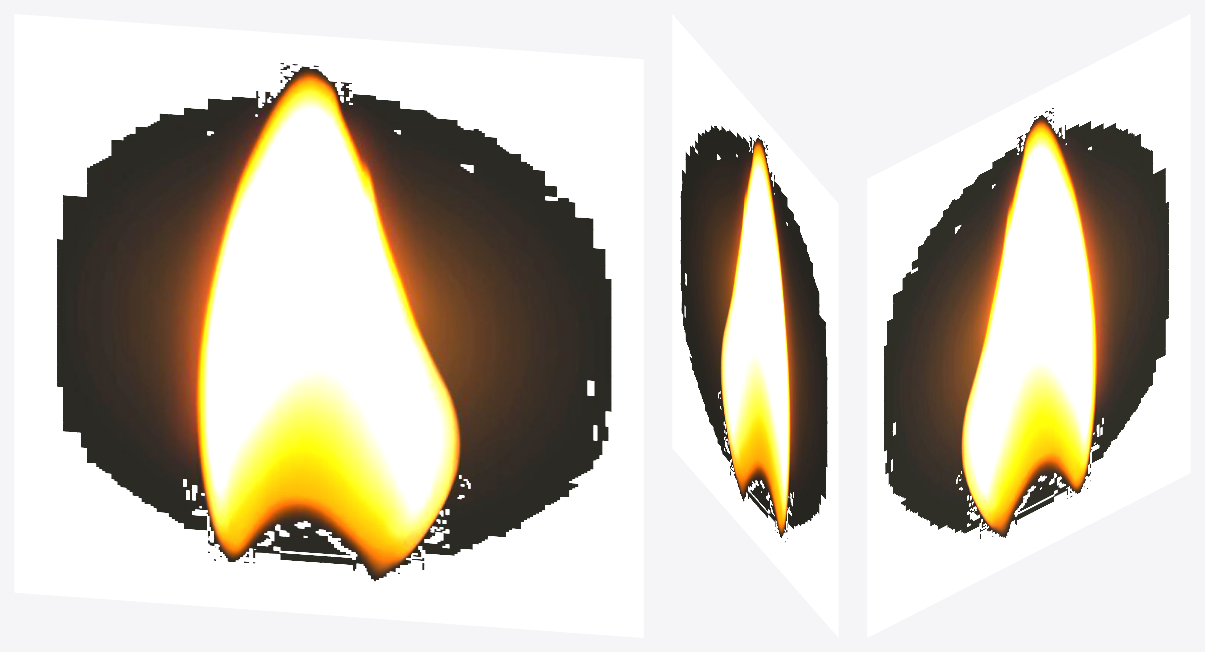
3 renders of one model, left to right at view 1: azimuth 30°, elevation 25°; view 2: azimuth 150°, elevation 25°; view 3: azimuth 270°, elevation 25°, orthographic. The views are drawn at different scales.
Parts seen in each view (by area): view 1: _332; view 2: _332; view 3: _332.
Part boxes in pixels (bbox=[...]): _332: bbox=[14, 14, 643, 637]; _332: bbox=[672, 14, 838, 637]; _332: bbox=[867, 14, 1190, 637].
Size of the model in its own units: 5.47 by 7.1 by 4.53.
